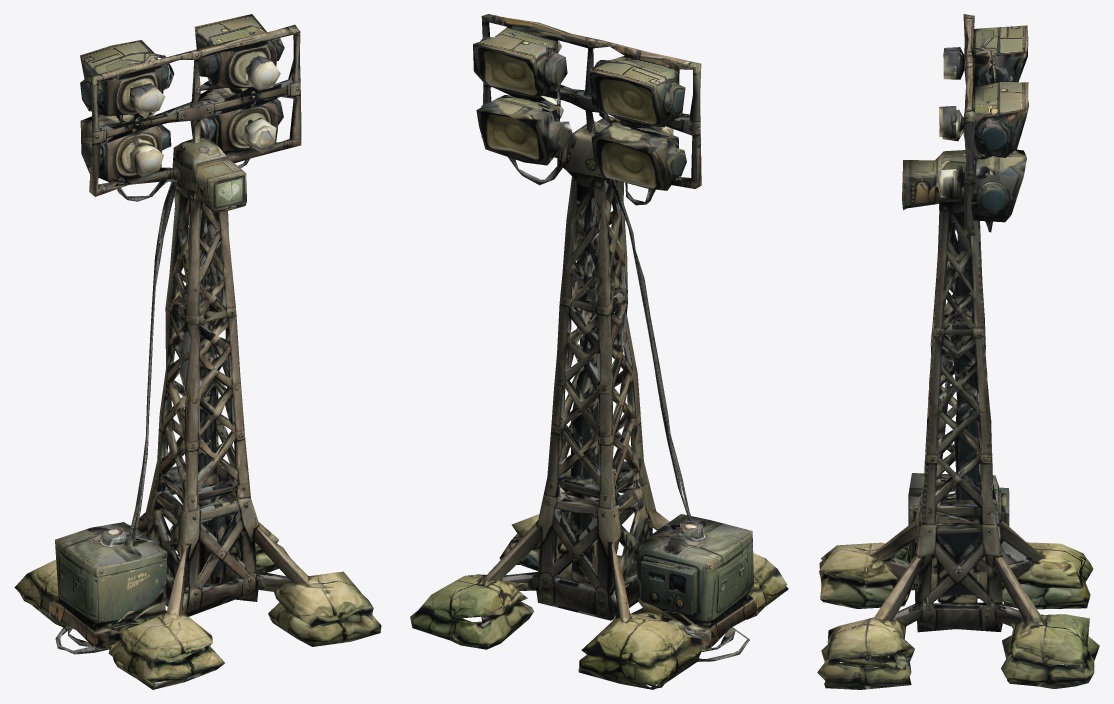
File: EX_Mil_Floodlight.fbx
The picture shows the model from 3 angles, left to right: view 1: azimuth 30°, elevation 25°; view 2: azimuth 150°, elevation 25°; view 3: azimuth 270°, elevation 25°; orthographic projection. The views are drawn at different scales.
Visible parts, largest first — view 1: texture_mapping; view 2: texture_mapping; view 3: texture_mapping.
Part boxes in pixels (<box>): texture_mapping: <box>14,14,381,689</box>; texture_mapping: <box>410,14,788,689</box>; texture_mapping: <box>817,14,1099,689</box>.
Size of the model in its own units: 0.4825 by 0.4464 by 1.
1 material, 1 textured.
